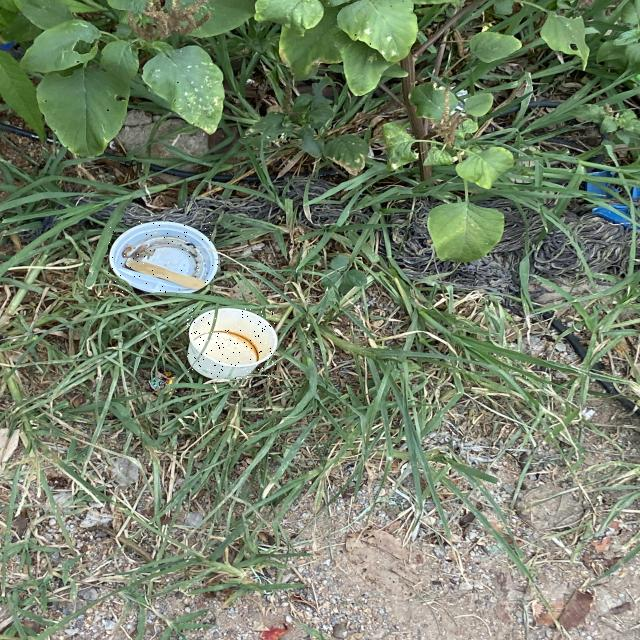paper: (187, 308, 277, 379)
plastic: (109, 221, 219, 293)
